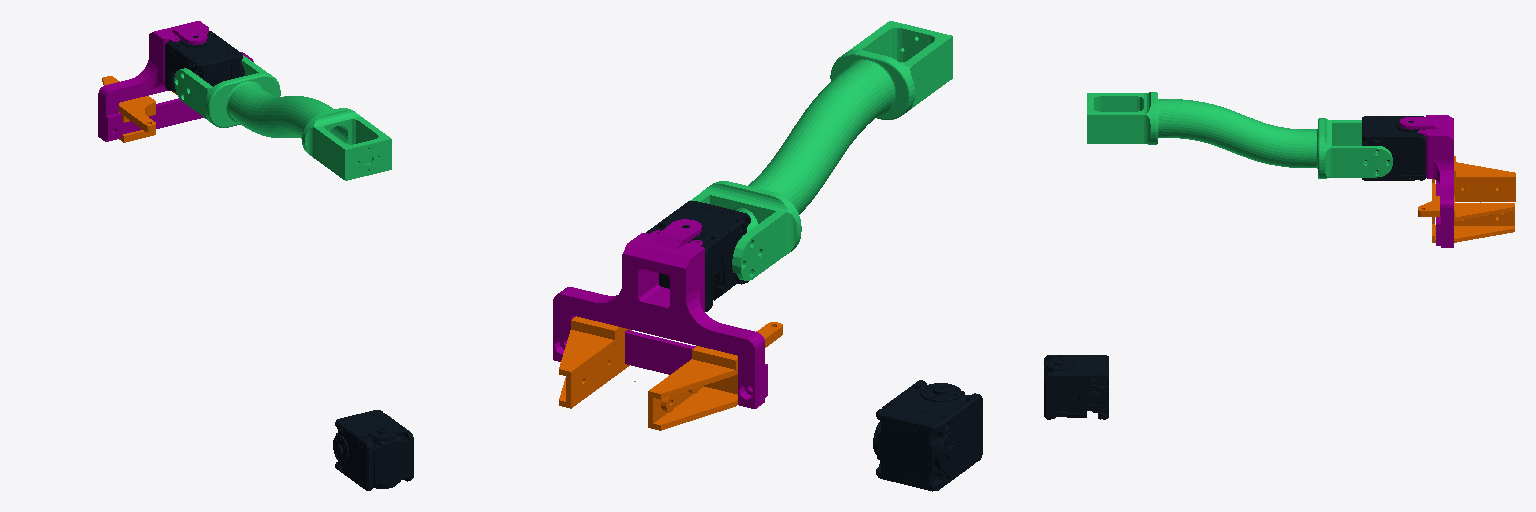
robot.urdf — archie:
<?xml version="1.0" ?>
<!-- =================================================================================== -->
<!-- |    This document was autogenerated by xacro from [local-path]/catkin_ws/src/ARCHIE/archie_description/urdf/manipulator_main.xacro | -->
<!-- |    EDITING THIS FILE BY HAND IS NOT RECOMMENDED                                 | -->
<!-- =================================================================================== -->
<robot name="archie">
    <link name="world" />
    <!-- Fix robot to Gazebo world -->
    <joint name="fixed" type="fixed">
        <parent link="world" />
        <child link="base_link" />
        <origin rpy="0 0 0" xyz="0 0 0" />
    </joint>
    <link name="base_link">
        <inertial>
            <origin rpy="0 0 0" xyz="5.34102915090199E-06 0.00149611119634719 0.027324411040906" />
            <mass value="0.399055600639488" />
            <inertia ixx="0.101795155" ixy="-0.0000106" ixz="-0.000004255" iyy="0.1049705" iyz="-0.0025166" izz="0.113806134" />
        </inertial>
        <visual>
            <origin rpy="0 0 0" xyz="0 0 0" />
            <geometry>
                <mesh filename="package://archie_description/meshes/base_link.STL" />
            </geometry>
            <material name="">
                <color rgba="0.0549 0.4 0.3333 1.0" />
            </material>
        </visual>
        <collision>
            <origin rpy="0 0 0" xyz="0 0 0" />
            <geometry>
                <mesh filename="package://archie_description/meshes/base_link.STL" />
            </geometry>
        </collision>
    </link>
    <link name="link_1">
        <inertial>
            <origin rpy="0 0 0" xyz="0.000495971250250975 -0.0119998499605218 0.0192958783777655" />
            <mass value="0.102" />
            <inertia ixx="0.004708" ixy="0.0000362" ixz="-0.0000863" iyy="0.0034761" iyz="-0.0013745" izz="0.0024097" />
        </inertial>
        <visual>
            <origin rpy="0 0 0" xyz="0 0 0" />
            <geometry>
                <mesh filename="package://archie_description/meshes/link_1.STL" />
            </geometry>
            <material name="">
                <color rgba="0.09019 0.12549 0.164706 1.0" />
            </material>
        </visual>
        <collision>
            <origin rpy="0 0 0" xyz="0 0 0" />
            <geometry>
                <mesh filename="package://archie_description/meshes/link_1.STL" />
            </geometry>
        </collision>
    </link>
    <joint name="joint_1" type="revolute">
        <origin rpy="0 0 3.14159265358979" xyz="0 0 0.07" />
        <parent link="base_link" />
        <child link="link_1" />
        <axis xyz="0 0 1" />
        <limit effort="300" lower="-1.57" upper="1.57" velocity="3" />
    </joint>
    <link name="link_2">
        <inertial>
            <origin rpy="0 0 0" xyz="-0.00375223885247785 0.0986651693444381 3.09623365033344E-07" />
            <mass value="0.102283747087815" />
            <inertia ixx="0.125060728" ixy="0.017650428" ixz="0.000000038" iyy="0.0057453" iyz="-0.00000199" izz="0.1262878" />
        </inertial>
        <visual>
            <origin rpy="0 0 0" xyz="-0.004 0.0012 0" />
            <geometry>
                <mesh filename="package://archie_description/meshes/link_2.STL" />
            </geometry>
            <material name="">
                <color rgba="0.1804 0.8 0.4431 1.0" />
            </material>
        </visual>
        <collision>
            <origin rpy="0 0 0" xyz="-0.004 0.0012 0" />
            <geometry>
                <mesh filename="package://archie_description/meshes/link_2.STL" />
            </geometry>
        </collision>
    </link>
    <joint name="joint_2" type="revolute">
        <origin rpy="1.5707963267949 0 -1.5707963267949" xyz="0 -0.024 0.0188" />
        <parent link="link_1" />
        <child link="link_2" />
        <axis xyz="0 0 1" />
        <limit effort="300" lower="-0.78" upper="0.78" velocity="3" />
    </joint>
    <link name="link_3">
        <inertial>
            <origin rpy="0 0 0" xyz="0.07998503185917 0.000495971402698678 0.000495878377765527" />
            <mass value="0.102" />
            <inertia ixx="0.004708" ixy="0.0000362" ixz="-0.0000863" iyy="0.0034761" iyz="-0.0013745" izz="0.0024097" />
        </inertial>
        <visual>
            <origin rpy="0 0 0" xyz="0.006 0 0" />
            <geometry>
                <mesh filename="package://archie_description/meshes/link_3.STL" />
            </geometry>
            <material name="">
                <color rgba="0.09019 0.12549 0.164706 1.0" />
            </material>
        </visual>
        <collision>
            <origin rpy="0 0 0" xyz="0.006 0 0" />
            <geometry>
                <mesh filename="package://archie_description/meshes/link_3.STL" />
            </geometry>
        </collision>
    </link>
    <joint name="joint_3" type="revolute">
        <origin rpy="0 0 1.5707963267949" xyz="-0.024 0.195 0" />
        <parent link="link_2" />
        <child link="link_3" />
        <axis xyz="0 0 1" />
        <limit effort="300" lower="-1.15" upper="2" velocity="3" />
    </joint>
    <link name="link_4">
        <inertial>
            <origin rpy="0 0 0" xyz="-0.0140962967782675 4.33165647224752E-07 0.105115025906125" />
            <mass value="0.105070462984836" />
            <inertia ixx="0.1573144" ixy="0.0195671" ixz="0.0000000040" iyy="0.0051205" iyz="0.0000001350" izz="0.1589789" />
        </inertial>
        <visual>
            <origin rpy="0 0 0" xyz="0 0 0" />
            <geometry>
                <mesh filename="package://archie_description/meshes/link_4.STL" />
            </geometry>
            <material name="">
                <color rgba="0.1804 0.8 0.4431 1.0" />
            </material>
        </visual>
        <collision>
            <origin rpy="0 0 0" xyz="0 0 0" />
            <geometry>
                <mesh filename="package://archie_description/meshes/link_4.STL" />
            </geometry>
        </collision>
    </link>
    <joint name="joint_4" type="revolute">
        <origin rpy="1.5707963267949 0 0" xyz="0.0200000000000001 -0.02 0" />
        <parent link="link_3" />
        <child link="link_4" />
        <axis xyz="0 0 1" />
        <limit effort="200" lower="-3.14" upper="3.14" velocity="3" />
    </joint>
    <link name="link_5">
        <inertial>
            <origin rpy="0 0 0" xyz="-0.00570412111171636 -0.00950015024510067 0.000495971250250971" />
            <mass value="0.0982" />
            <inertia ixx="0.004708" ixy="0.0000362" ixz="-0.0000863" iyy="0.0034761" iyz="-0.0013745" izz="0.0024097" />
        </inertial>
        <visual>
            <origin rpy="0 0 0" xyz="0.006 -0.0025 0" />
            <geometry>
                <mesh filename="package://archie_description/meshes/link_5.STL" />
            </geometry>
            <material name="">
                <color rgba="0.09019 0.12549 0.164706 1.0" />
            </material>
        </visual>
        <collision>
            <origin rpy="0 0 0" xyz="0.006 -0.0025 0" />
            <geometry>
                <mesh filename="package://archie_description/meshes/link_5.STL" />
            </geometry>
        </collision>
    </link>
    <joint name="joint_5" type="revolute">
        <origin rpy="-1.5707963267949 0 0" xyz="-0.02562 0 0.2075" />
        <parent link="link_4" />
        <child link="link_5" />
        <axis xyz="0 0 1" />
        <limit effort="200" lower="-1.15" upper="2" velocity="3" />
    </joint>
    <link name="link_6">
        <inertial>
            <origin rpy="0 0 0" xyz="0.00150005999207131 2.13388833428252E-08 0.0547308096922248" />
            <mass value="0.000147831569305485" />
            <inertia ixx="3.66048153630127E-09" ixy="1.57772181044196E-25" ixz="1.17223439029209E-23" iyy="3.66048153630127E-09" iyz="8.32319653746676E-25" izz="7.31480342388148E-09" />
        </inertial>
        <visual>
            <origin rpy="0 0 0" xyz="0 0 0" />
            <geometry>
                <mesh filename="package://archie_description/meshes/link_6.STL" />
            </geometry>
            <material name="">
                <color rgba="0.729411764705882 0.356862745098039 0.0235294117647059 1" />
            </material>
        </visual>
        <collision>
            <origin rpy="0 0 0" xyz="0 0 0" />
            <geometry>
                <mesh filename="package://archie_description/meshes/link_6.STL" />
            </geometry>
        </collision>
    </link>
    <joint name="joint_6" type="revolute">
        <origin rpy="1.5707963267949 0 -1.5707963267949" xyz="-0.02 -0.024 0" />
        <parent link="link_5" />
        <child link="link_6" />
        <axis xyz="0 0 1" />
        <limit effort="200" lower="-3.14" upper="3.14" velocity="3" />
    </joint>
    <!-- transmission list -->
    <transmission name="link_1_trans">
        <type>transmission_interface/SimpleTransmission</type>
        <joint name="joint_1">
            <hardwareInterface>hardware_interface/PositionJointInterface</hardwareInterface>
        </joint>
        <actuator name="link_1_motor">
            <hardwareInterface>hardware_interface/PositionJointInterface</hardwareInterface>
            <mechanicalReduction>1</mechanicalReduction>
        </actuator>
    </transmission>
    <transmission name="link_2_trans">
        <type>transmission_interface/SimpleTransmission</type>
        <joint name="joint_2">
            <hardwareInterface>hardware_interface/PositionJointInterface</hardwareInterface>
        </joint>
        <actuator name="link_2_motor">
            <hardwareInterface>hardware_interface/PositionJointInterface</hardwareInterface>
            <mechanicalReduction>1</mechanicalReduction>
        </actuator>
    </transmission>
    <transmission name="link_3_trans">
        <type>transmission_interface/SimpleTransmission</type>
        <joint name="joint_3">
            <hardwareInterface>hardware_interface/PositionJointInterface</hardwareInterface>
        </joint>
        <actuator name="link_3_motor">
            <hardwareInterface>hardware_interface/PositionJointInterface</hardwareInterface>
            <mechanicalReduction>1</mechanicalReduction>
        </actuator>
    </transmission>
    <transmission name="link_4_trans">
        <type>transmission_interface/SimpleTransmission</type>
        <joint name="joint_4">
            <hardwareInterface>hardware_interface/PositionJointInterface</hardwareInterface>
        </joint>
        <actuator name="link_4_motor">
            <hardwareInterface>hardware_interface/PositionJointInterface</hardwareInterface>
            <mechanicalReduction>1</mechanicalReduction>
        </actuator>
    </transmission>
    <transmission name="link_5_trans">
        <type>transmission_interface/SimpleTransmission</type>
        <joint name="joint_5">
            <hardwareInterface>hardware_interface/PositionJointInterface</hardwareInterface>
        </joint>
        <actuator name="link_5_motor">
            <hardwareInterface>hardware_interface/PositionJointInterface</hardwareInterface>
            <mechanicalReduction>1</mechanicalReduction>
        </actuator>
    </transmission>
    <transmission name="link_6_trans">
        <type>transmission_interface/SimpleTransmission</type>
        <joint name="joint_6">
            <hardwareInterface>hardware_interface/PositionJointInterface</hardwareInterface>
        </joint>
        <actuator name="link_6_motor">
            <hardwareInterface>hardware_interface/PositionJointInterface</hardwareInterface>
            <mechanicalReduction>1</mechanicalReduction>
        </actuator>
    </transmission>
    <!-- end of transmission list -->
    <!-- Gazebo-specific link properties -->
    <gazebo reference="link_1">
        <selfCollide>true</selfCollide>
        <material>Gazebo/Black</material>
        <plugin name="gazebo_ros_control">
            <robotNamespace>/</robotNamespace>
        </plugin>
    </gazebo>
    <gazebo reference="link_2">
        <selfCollide>true</selfCollide>
        <material>Gazebo/Orange</material>
    </gazebo>
    <gazebo reference="link_3">
        <selfCollide>true</selfCollide>
        <material>Gazebo/Black</material>
    </gazebo>
    <gazebo reference="link_4">
        <selfCollide>true</selfCollide>
        <material>Gazebo/Orange</material>
    </gazebo>
    <gazebo reference="link_5">
        <selfCollide>true</selfCollide>
        <material>Gazebo/Black</material>
    </gazebo>
    <gazebo reference="link_6">
        <selfCollide>true</selfCollide>
    </gazebo>
    <!-- ros_control plugin -->
    <gazebo>
        <plugin filename="libgazebo_ros_control.so" name="control">
            <robotNamespace>/</robotNamespace>
            <robotSimType>gazebo_ros_control/DefaultRobotHWSim</robotSimType>
        </plugin>
    </gazebo>
    <joint name="garra_joint" type="fixed">
        <parent link="link_6" />
        <child link="base_garra" />
        <origin rpy="0 0 1.57" xyz="0 0 0" />
    </joint>
    <link name="base_garra">
        <inertial>
            <origin rpy="0 0 0" xyz="2.434E-05 -0.022273 -0.0046894" />
            <mass value="0.04363" />
            <inertia ixx="1.2763E-05" ixy="3.9172E-12" ixz="-3.6866E-11" iyy="4.6822E-05" iyz="2.0165E-06" izz="3.7148E-05" />
        </inertial>
        <visual>
            <origin rpy="0 0 0" xyz="0 0 0" />
            <geometry>
                <mesh filename="package://archie_description/meshes/gripper/base_garra.STL" />
            </geometry>
            <material name="">
                <color rgba="0.6274509803921569 0.01568627450980392 0.596078431372549 1.0" />
            </material>
        </visual>
        <collision>
            <origin rpy="0 0 0" xyz="0 0 0" />
            <geometry>
                <mesh filename="package://archie_description/meshes/gripper/base_garra.STL" />
            </geometry>
        </collision>
    </link>
    <link name="garra1_link">
        <inertial>
            <origin rpy="0 0 0" xyz="-0.00071849 0.018325 -0.00038068" />
            <mass value="0.012915" />
            <inertia ixx="4.5614E-06" ixy="-7.5789E-07" ixz="-1.3068E-07" iyy="1.565E-06" iyz="-4.7014E-07" izz="4.3774E-06" />
        </inertial>
        <visual>
            <origin rpy="0 0 0" xyz="0 0 0" />
            <geometry>
                <mesh filename="package://archie_description/meshes/gripper/garra1_link.STL" />
            </geometry>
            <material name="">
                <color rgba="0.9098 0.44314 0.031373 1" />
            </material>
        </visual>
        <collision>
            <origin rpy="0 0 0" xyz="0 0 0" />
            <geometry>
                <mesh filename="package://archie_description/meshes/gripper/garra1_link.STL" />
            </geometry>
        </collision>
    </link>
    <joint name="garra1_joint" type="prismatic">
        <origin rpy="0 0 0" xyz="0.043 -0.009 0.008" />
        <parent link="base_garra" />
        <child link="garra1_link" />
        <axis xyz="-1 0 0" />
        <limit effort="100" lower="0" upper="0.02" velocity="3" />
    </joint>
    <link name="garra2_link">
        <inertial>
            <origin rpy="0 0 0" xyz="-0.00071849 0.018325 -0.00038068" />
            <mass value="0.012915" />
            <inertia ixx="4.5614E-06" ixy="-7.5789E-07" ixz="-1.3068E-07" iyy="1.565E-06" iyz="-4.7014E-07" izz="4.3774E-06" />
        </inertial>
        <visual>
            <origin rpy="0 0 0" xyz="0 0 0" />
            <geometry>
                <mesh filename="package://archie_description/meshes/gripper/garra2_link.STL" />
            </geometry>
            <material name="">
                <color rgba="0.9098 0.44314 0.031373 1" />
            </material>
        </visual>
        <collision>
            <origin rpy="0 0 0" xyz="0 0 0" />
            <geometry>
                <mesh filename="package://archie_description/meshes/gripper/garra2_link.STL" />
            </geometry>
        </collision>
    </link>
    <joint name="garra2_joint" type="prismatic">
        <origin rpy="0 0 0" xyz="-0.043 0.0125 0.008" />
        <parent link="base_garra" />
        <child link="garra2_link" />
        <axis xyz="-1 0 0" />
        <limit effort="100" lower="-0.02" upper="0" velocity="3" />
        <mimic joint="garra1_joint" multiplier="-1" offset="0" />
    </joint>
    <link name="end_effect_point">
        <visual>
            <origin rpy="0 0 0" xyz="0 0 0" />
            <geometry>
                <box size="0.0005 0.0005 0.0005" />
            </geometry>
        </visual>
        <inertial>
            <origin rpy="0 0 0" xyz="0.0 0.0 0.0" />
            <mass value="0.00001" />
            <inertia ixx="1.0" ixy="0.0" ixz="0.0" iyy="1.0" iyz="0.0" izz="1.0" />
        </inertial>
    </link>
    <!--end effect point -->
    <joint name="end_effect_point" type="fixed">
        <origin rpy="3.14 0 0" xyz="0 -0.05 0.023" />
        <parent link="base_garra" />
        <child link="end_effect_point" />
    </joint>
    <transmission name="garra1_trans">
        <type>transmission_interface/SimpleTransmission</type>
        <joint name="garra1_joint">
            <hardwareInterface>hardware_interface/PositionJointInterface</hardwareInterface>
        </joint>
        <actuator name="garra1_motor">
            <hardwareInterface>hardware_interface/PositionJointInterface</hardwareInterface>
            <mechanicalReduction>1</mechanicalReduction>
        </actuator>
    </transmission>
    <gazebo>
        <plugin filename="libroboticsgroup_gazebo_mimic_joint_plugin.so" name="mimic_joint_plugin">
            <joint>garra1_joint</joint>
            <mimicJoint>garra2_joint</mimicJoint>
            <multiplier>-1</multiplier>
        </plugin>
    </gazebo>
    <transmission name="trans_garra2_joint">
        <type>transmission_interface/SimpleTransmission</type>
        <joint name="garra2_joint">
            <hardwareInterface>hardware_interface/EffortJointInterface</hardwareInterface>
        </joint>
        <actuator name="garra2_joint_motor">
            <hardwareInterface>hardware_interface/EffortJointInterface</hardwareInterface>
            <mechanicalReduction>1</mechanicalReduction>
        </actuator>
    </transmission>
</robot>

--- What the picture shows (computed from the rendered views, not written in the file) ---
3 views of the same robot in one strip: view 1: azimuth 30°, elevation 25°; view 2: azimuth 150°, elevation 25°; view 3: azimuth 270°, elevation 25° (orthographic).
Robot: archie — 12 links, 11 joints (6 revolute, 2 prismatic, 3 fixed); root link world; default pose: every joint at zero.
Visible links, largest first — view 1: link_4, link_1, base_garra, link_5, garra2_link; view 2: link_4, base_garra, link_1, garra2_link, garra1_link, link_5; view 3: link_4, link_1, base_garra, link_5, garra1_link, garra2_link.
Boxes of the visible links, x1,y1,x2,y2 form: link_4: [174, 55, 391, 180]; link_1: [333, 410, 413, 490]; base_garra: [98, 21, 253, 141]; link_5: [165, 31, 244, 91]; garra2_link: [102, 76, 155, 142]; link_4: [690, 21, 952, 280]; base_garra: [553, 219, 767, 408]; link_1: [873, 380, 982, 491]; garra2_link: [648, 322, 782, 430]; garra1_link: [559, 316, 631, 408]; link_5: [646, 201, 750, 311]; link_4: [1087, 92, 1392, 178]; link_1: [1044, 355, 1108, 419]; base_garra: [1400, 115, 1453, 247]; link_5: [1362, 116, 1425, 180]; garra1_link: [1418, 196, 1514, 242]; garra2_link: [1432, 156, 1515, 201].
Bounding box of the posed robot: 0.1152 × 0.338 × 0.2493 m (x, y, z).
Meshes: 10 distinct files referenced, 7 mesh visuals loaded (7 binary STL); not drawn: 3 (reference not matched to a file when rendering).
